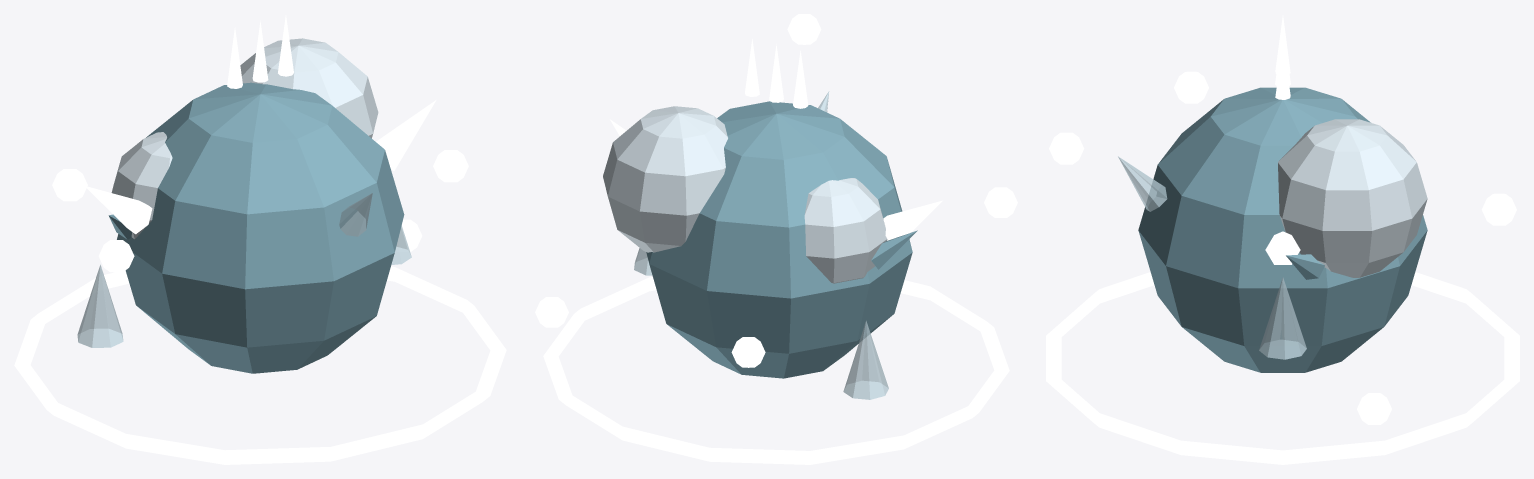
File: evolved_snowball.glb
3 views of the same model, side by side, from view 1: azimuth 30°, elevation 25°; view 2: azimuth 150°, elevation 25°; view 3: azimuth 270°, elevation 25° (orthographic). The views are drawn at different scales.
Parts seen in each view (by area): view 1: evolved_snowball; view 2: evolved_snowball; view 3: evolved_snowball.
Part boxes in pixels (box(x1,y1,x2,y2)): evolved_snowball: box(14, 15, 506, 464); evolved_snowball: box(535, 14, 1017, 464); evolved_snowball: box(1046, 15, 1519, 464).
Bounding box in the file's own units: 3.32 × 2.56 × 3.24.
